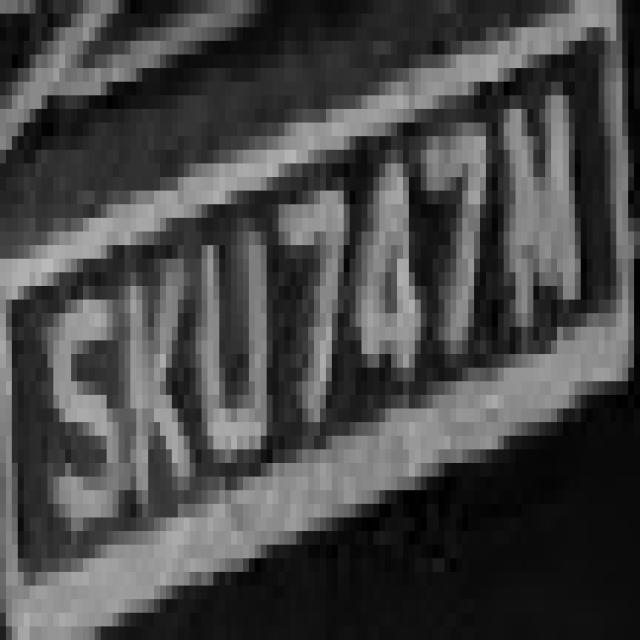4: (338, 150, 415, 436)
7: (260, 109, 356, 449), (409, 41, 492, 395)
K: (95, 218, 195, 531)
M: (492, 82, 592, 327)
S: (30, 245, 119, 545)
U: (190, 205, 278, 518)
